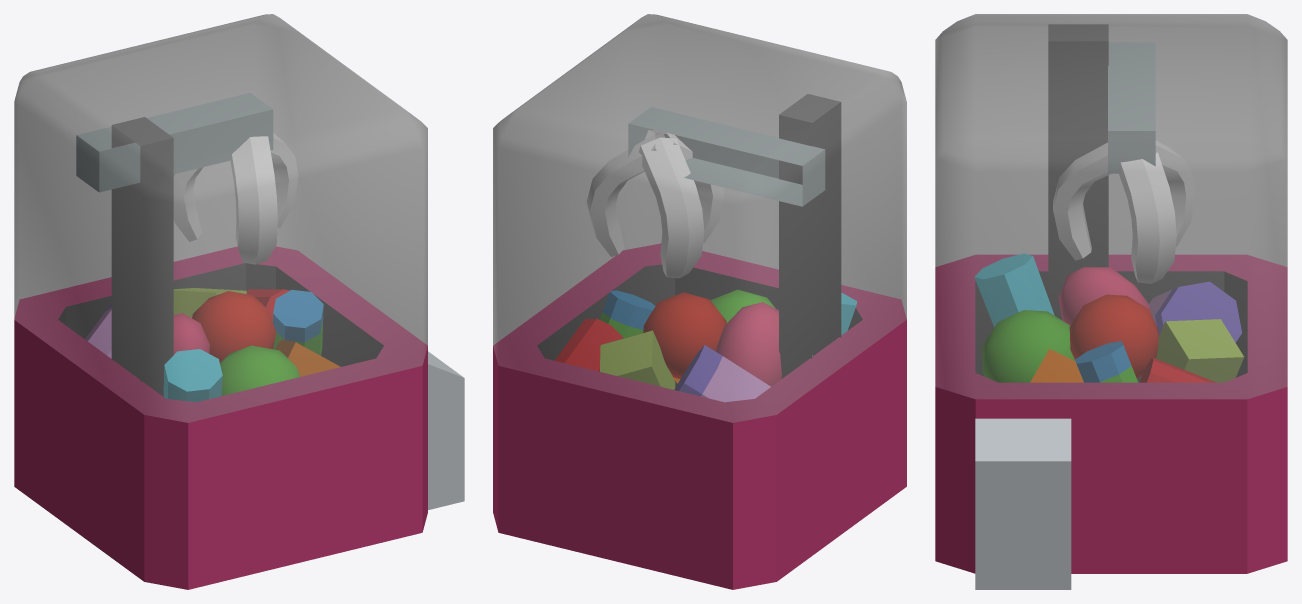
The model's file is slotmachine_s03.FBX.
The picture shows the model from 3 angles, left to right: view 1: azimuth 30°, elevation 25°; view 2: azimuth 150°, elevation 25°; view 3: azimuth 270°, elevation 25°; orthographic projection. The views are drawn at different scales.
Parts seen in each view (by area): view 1: slotmachine_s03; view 2: slotmachine_s03; view 3: slotmachine_s03.
Part boxes in pixels (x1,y1,x2,y2): slotmachine_s03: (14,14,464,589); slotmachine_s03: (493,14,906,589); slotmachine_s03: (935,14,1287,589).
Bounding box in the file's own units: 206 × 188 × 252.
Materials: 2 (1 with a texture image).
